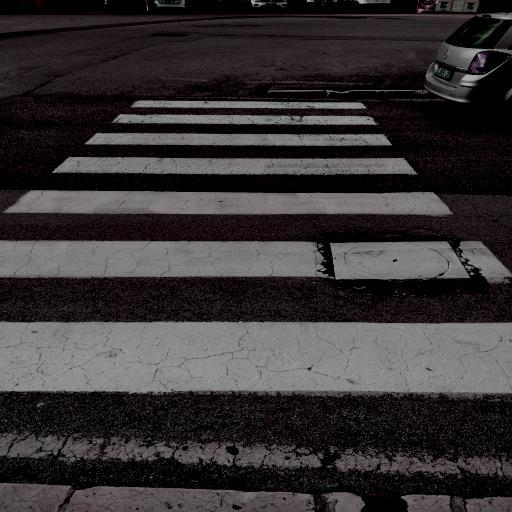crosswalk: (0, 234, 512, 400), (0, 151, 462, 222), (104, 99, 386, 127)
